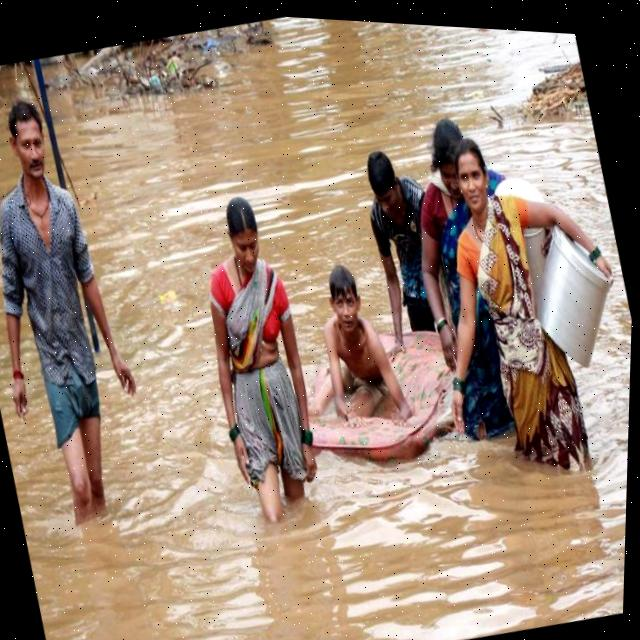civilian: (417, 113, 637, 495), (0, 75, 177, 544), (168, 179, 342, 521), (380, 107, 546, 459), (341, 130, 460, 346), (301, 249, 421, 441)
